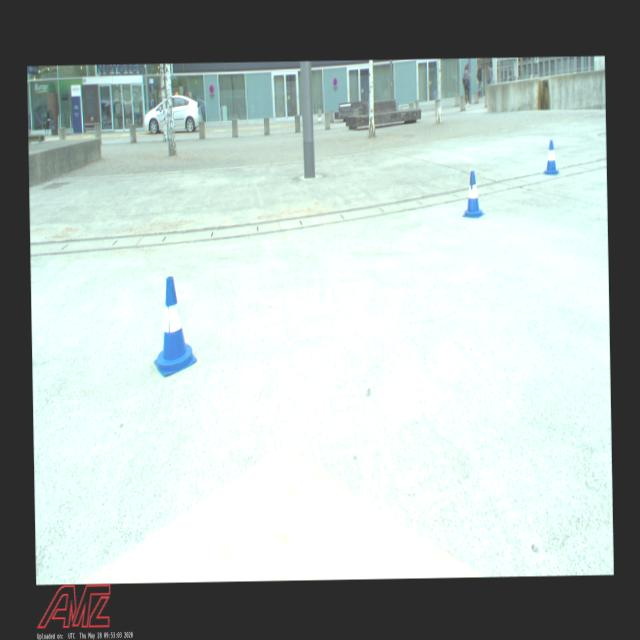blue_cone: (152, 277, 196, 374), (461, 170, 485, 218), (542, 138, 560, 176)
